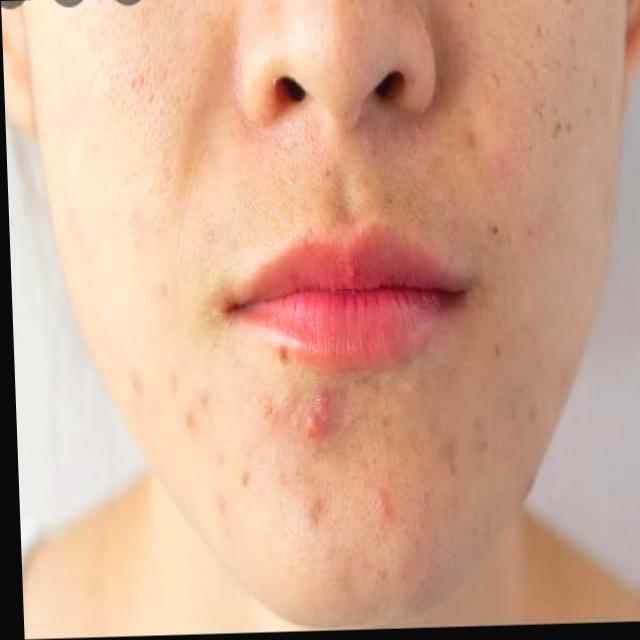8: (359, 472, 399, 532)
papules: (284, 378, 333, 464)
